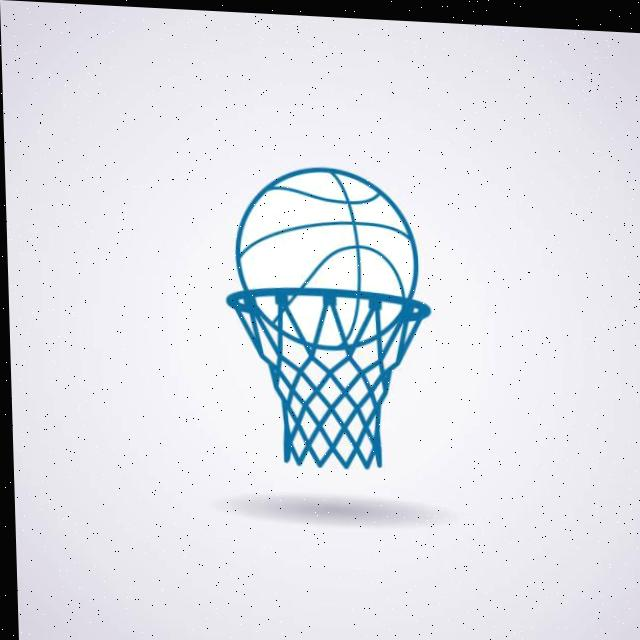basketball: (233, 162, 423, 355)
hoop: (227, 282, 437, 474)
